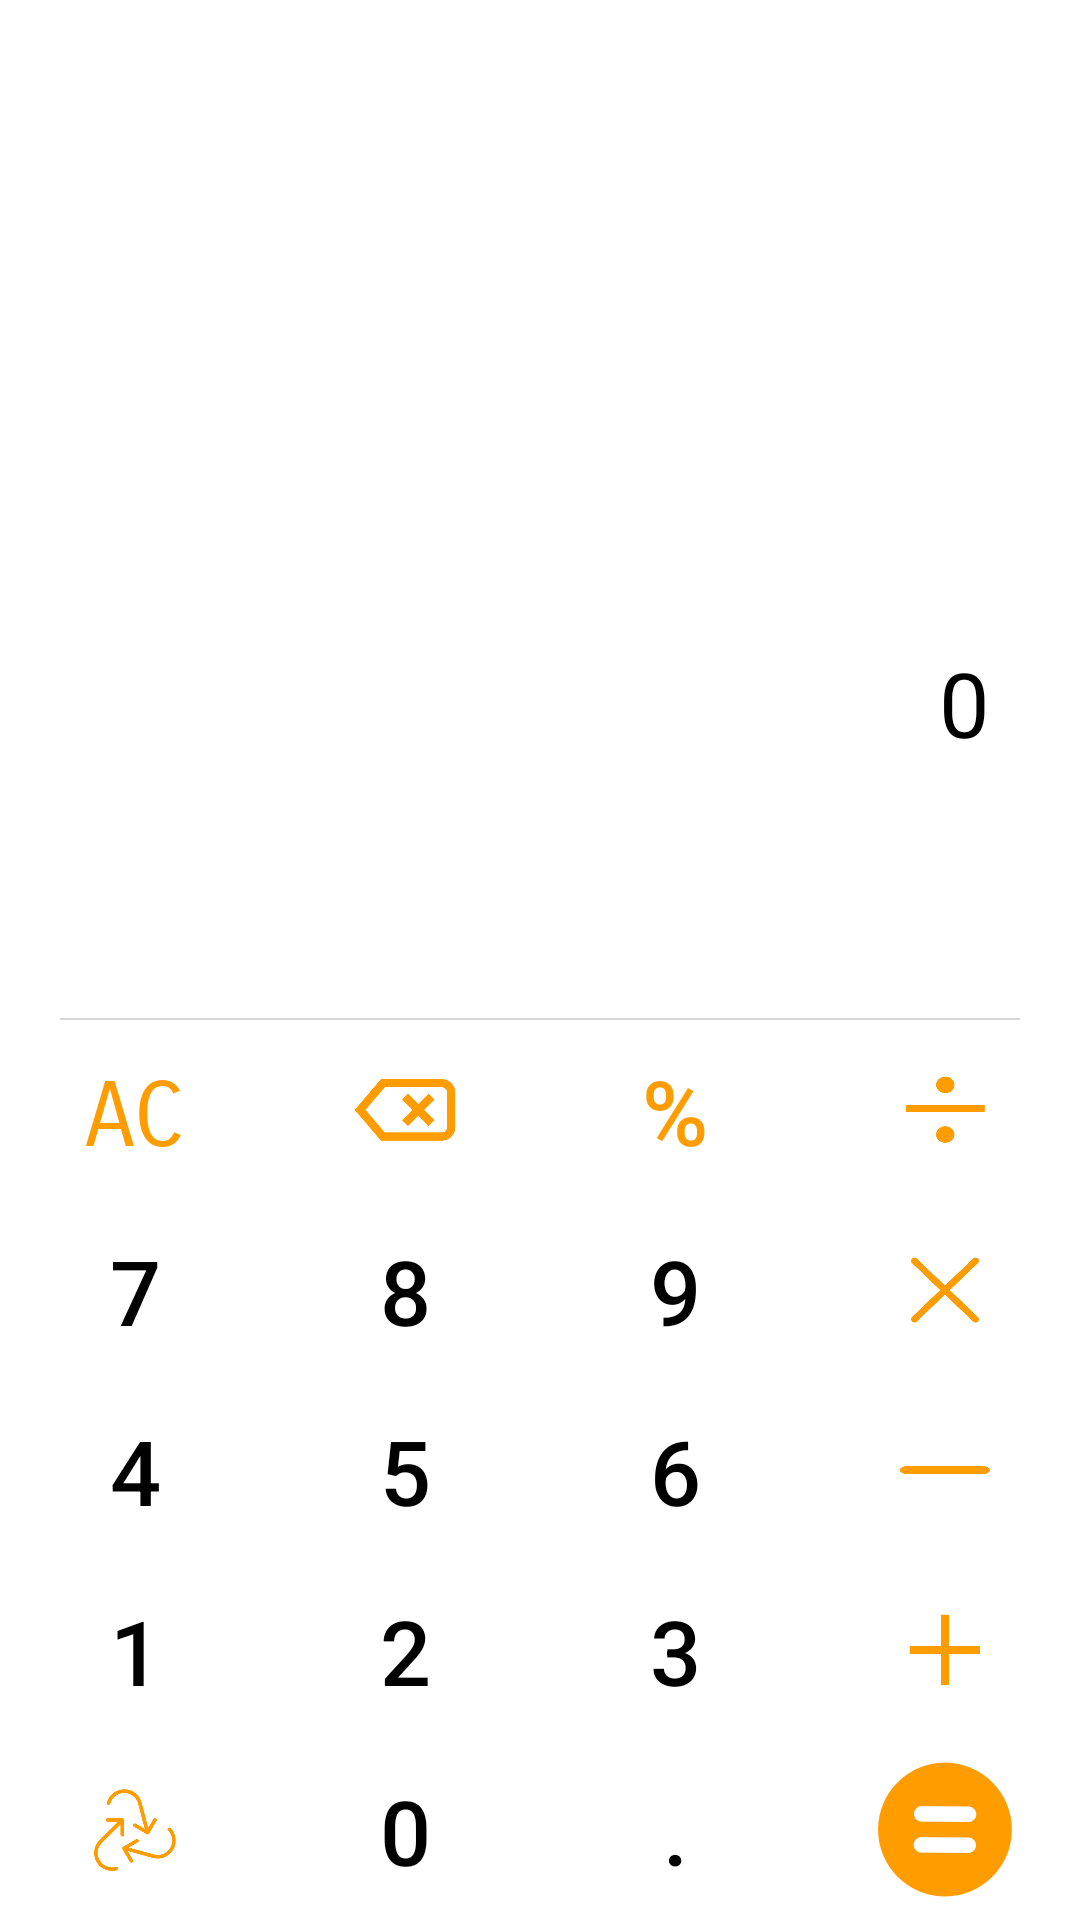

Where to tap for icons on this 1080 × 1920 app screen, as [x,y]:
add: [944,1649]
back: [405,1110]
divide: [945,1109]
equal: [945,1829]
mult: [945,1290]
